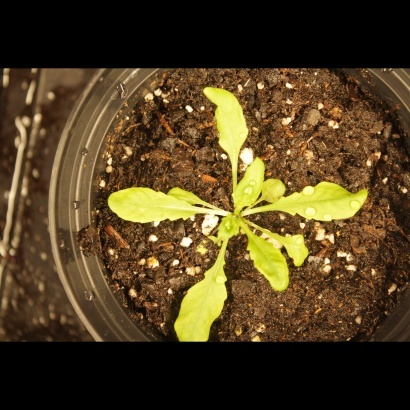leaf: (174, 250, 235, 343), (275, 172, 375, 226), (101, 179, 199, 229), (198, 84, 255, 157), (241, 227, 291, 295), (233, 154, 273, 212), (271, 228, 317, 265), (255, 174, 295, 206), (215, 213, 248, 245)
